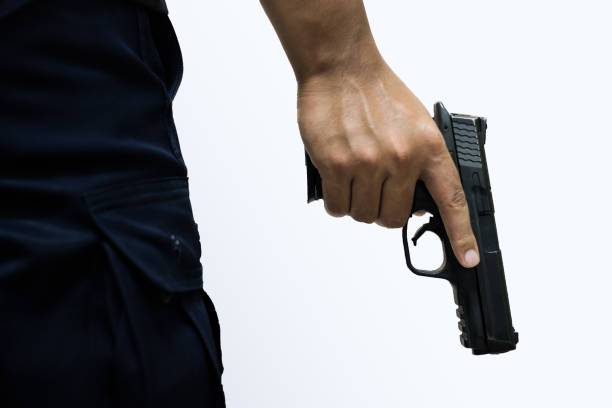pistol: (302, 98, 524, 365)
